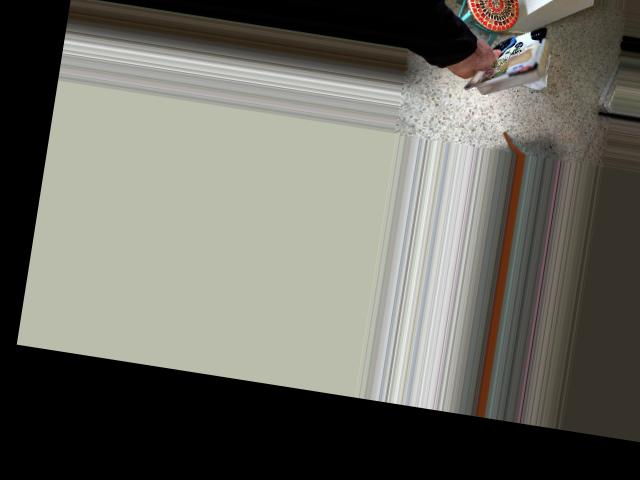cheese: (444, 0, 559, 113)
